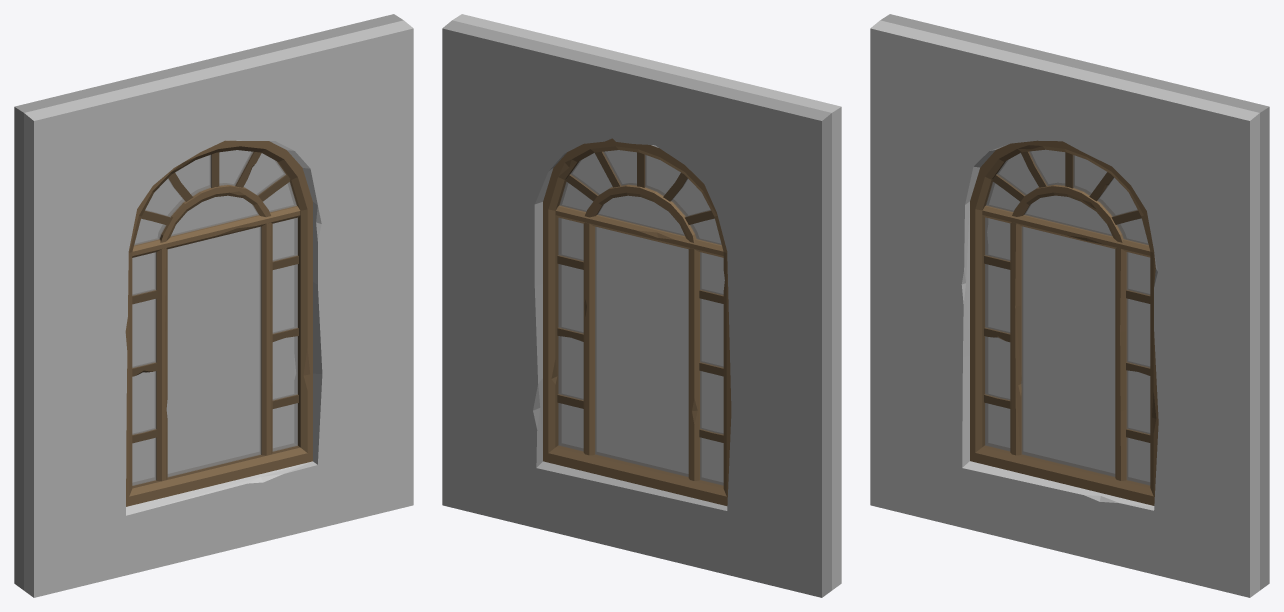
The model's file is SM_Bld_Wall_Manor_Window_02.fbx.
3 renders of one model, left to right at view 1: azimuth 30°, elevation 25°; view 2: azimuth 150°, elevation 25°; view 3: azimuth 330°, elevation 25°, orthographic.
Parts seen in each view (by area): view 1: SM_Bld_Wall_Manor_Window_02; view 2: SM_Bld_Wall_Manor_Window_02; view 3: SM_Bld_Wall_Manor_Window_02.
Boxes of the visible parts, x1,y1,x2,y2 form: SM_Bld_Wall_Manor_Window_02: (14,14,413,597); SM_Bld_Wall_Manor_Window_02: (442,14,841,597); SM_Bld_Wall_Manor_Window_02: (870,14,1269,597).
Bounding box in the file's own units: 250 × 301 × 22.5.
